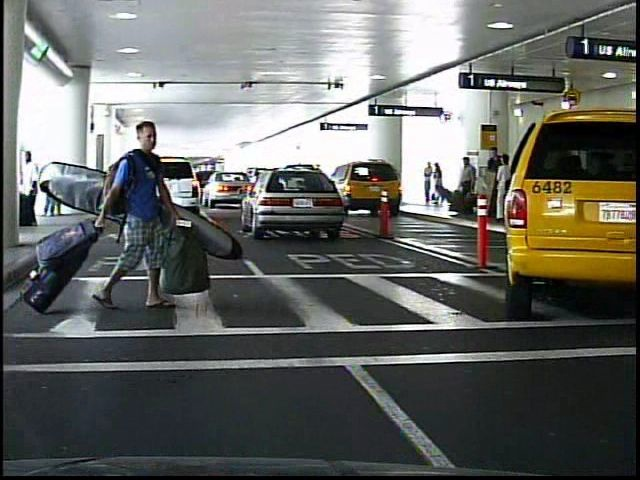person: (105, 112, 180, 332), (18, 154, 40, 232), (457, 157, 479, 220), (483, 143, 502, 215), (421, 163, 433, 208), (432, 163, 443, 207)
